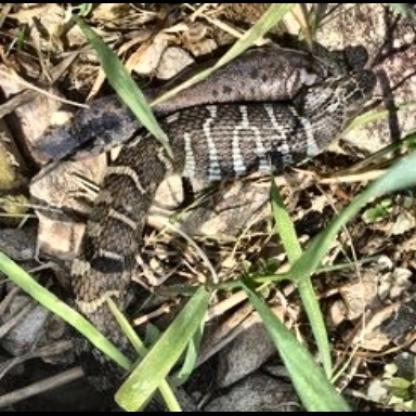Snake: (13, 34, 416, 410), (11, 5, 414, 226)
